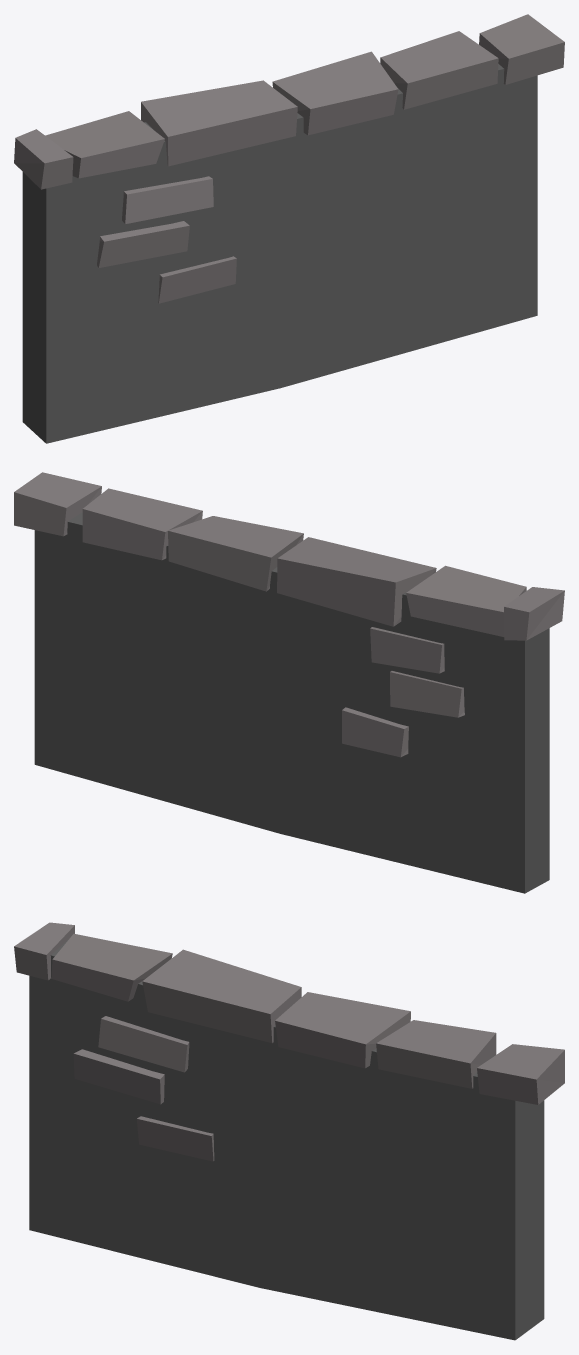
File: vr_brick_wall_2.glb
3 views of the same model, one above another, from view 1: azimuth 30°, elevation 25°; view 2: azimuth 150°, elevation 25°; view 3: azimuth 330°, elevation 25° (orthographic).
Parts seen in each view (by area): view 1: gtmfc_brick_wall_2; view 2: gtmfc_brick_wall_2; view 3: gtmfc_brick_wall_2.
Part boxes in pixels (x1=…): gtmfc_brick_wall_2: x1=14, y1=14, x2=564, y2=443; gtmfc_brick_wall_2: x1=14, y1=472, x2=564, y2=893; gtmfc_brick_wall_2: x1=14, y1=922, x2=564, y2=1340.
Size of the model in its own units: 1.82 by 0.9645 by 0.2387.
Materials: 1 (1 with a texture image).
